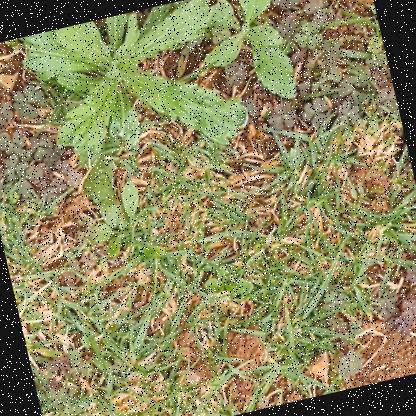Weeds: (7, 0, 253, 191), (184, 0, 302, 120), (78, 178, 166, 271), (204, 259, 258, 313)
